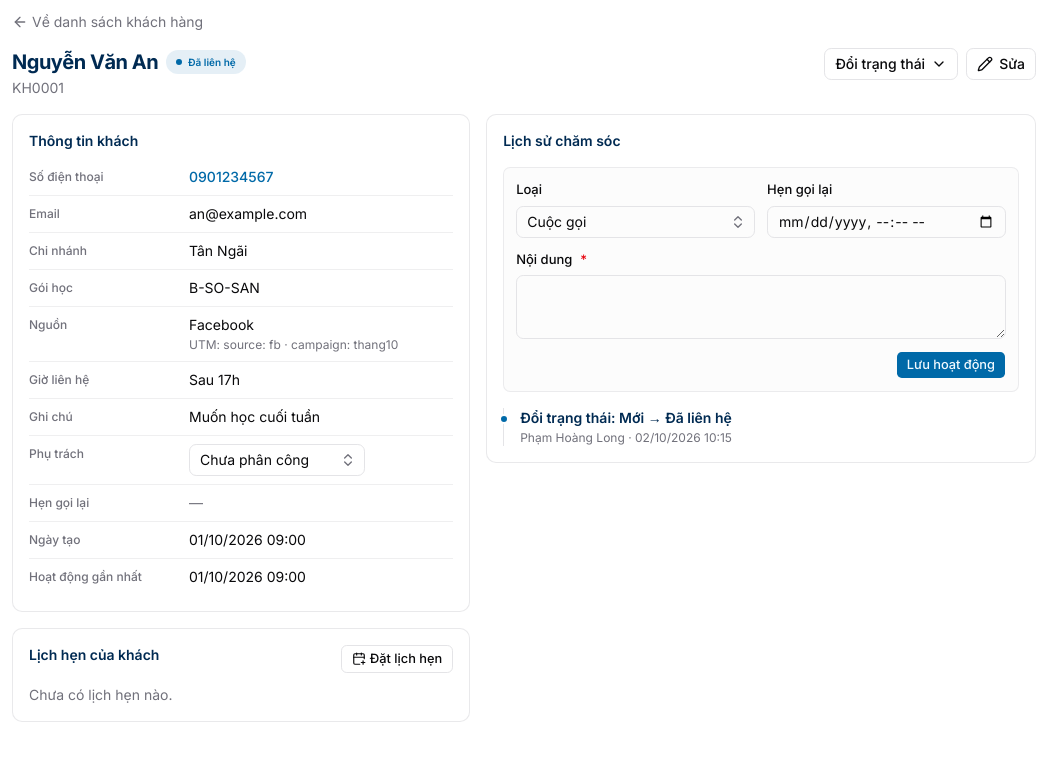
LeadDetail › ghi hoạt động: thiếu nội dung không gửi
Click the button "Lưu hoạt động" at (951, 365), box 896,351 -> 1006,379
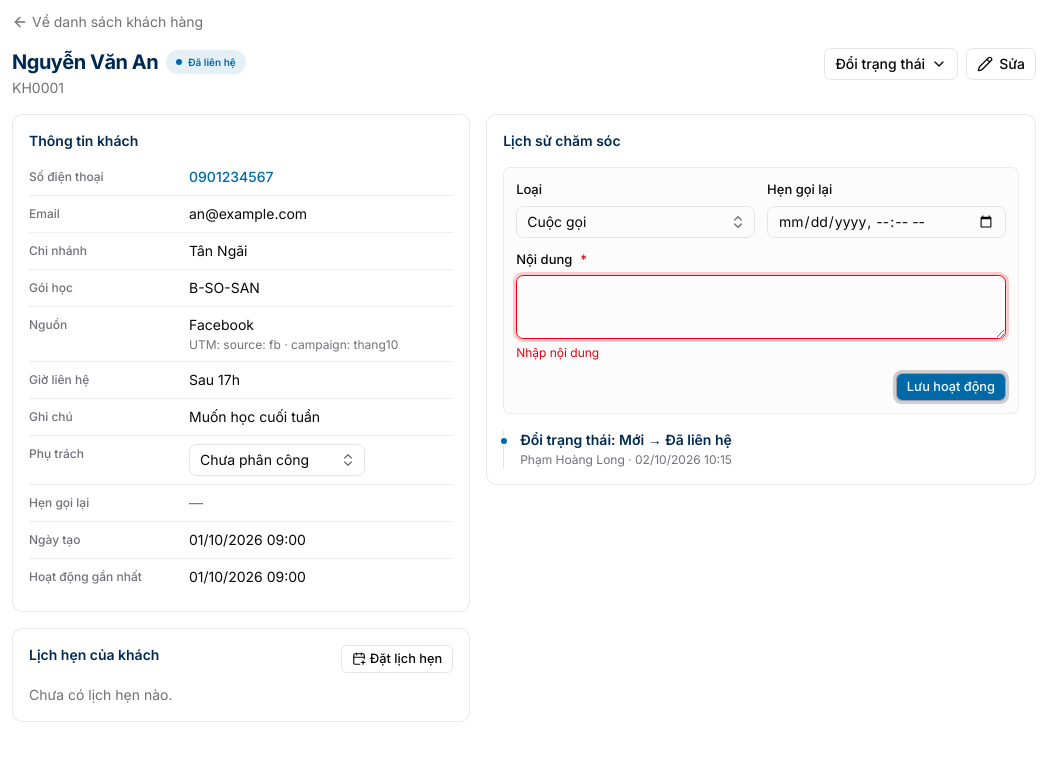
Expected: the text "Nhập nội dung" is shown, 516,345 -> 599,360
